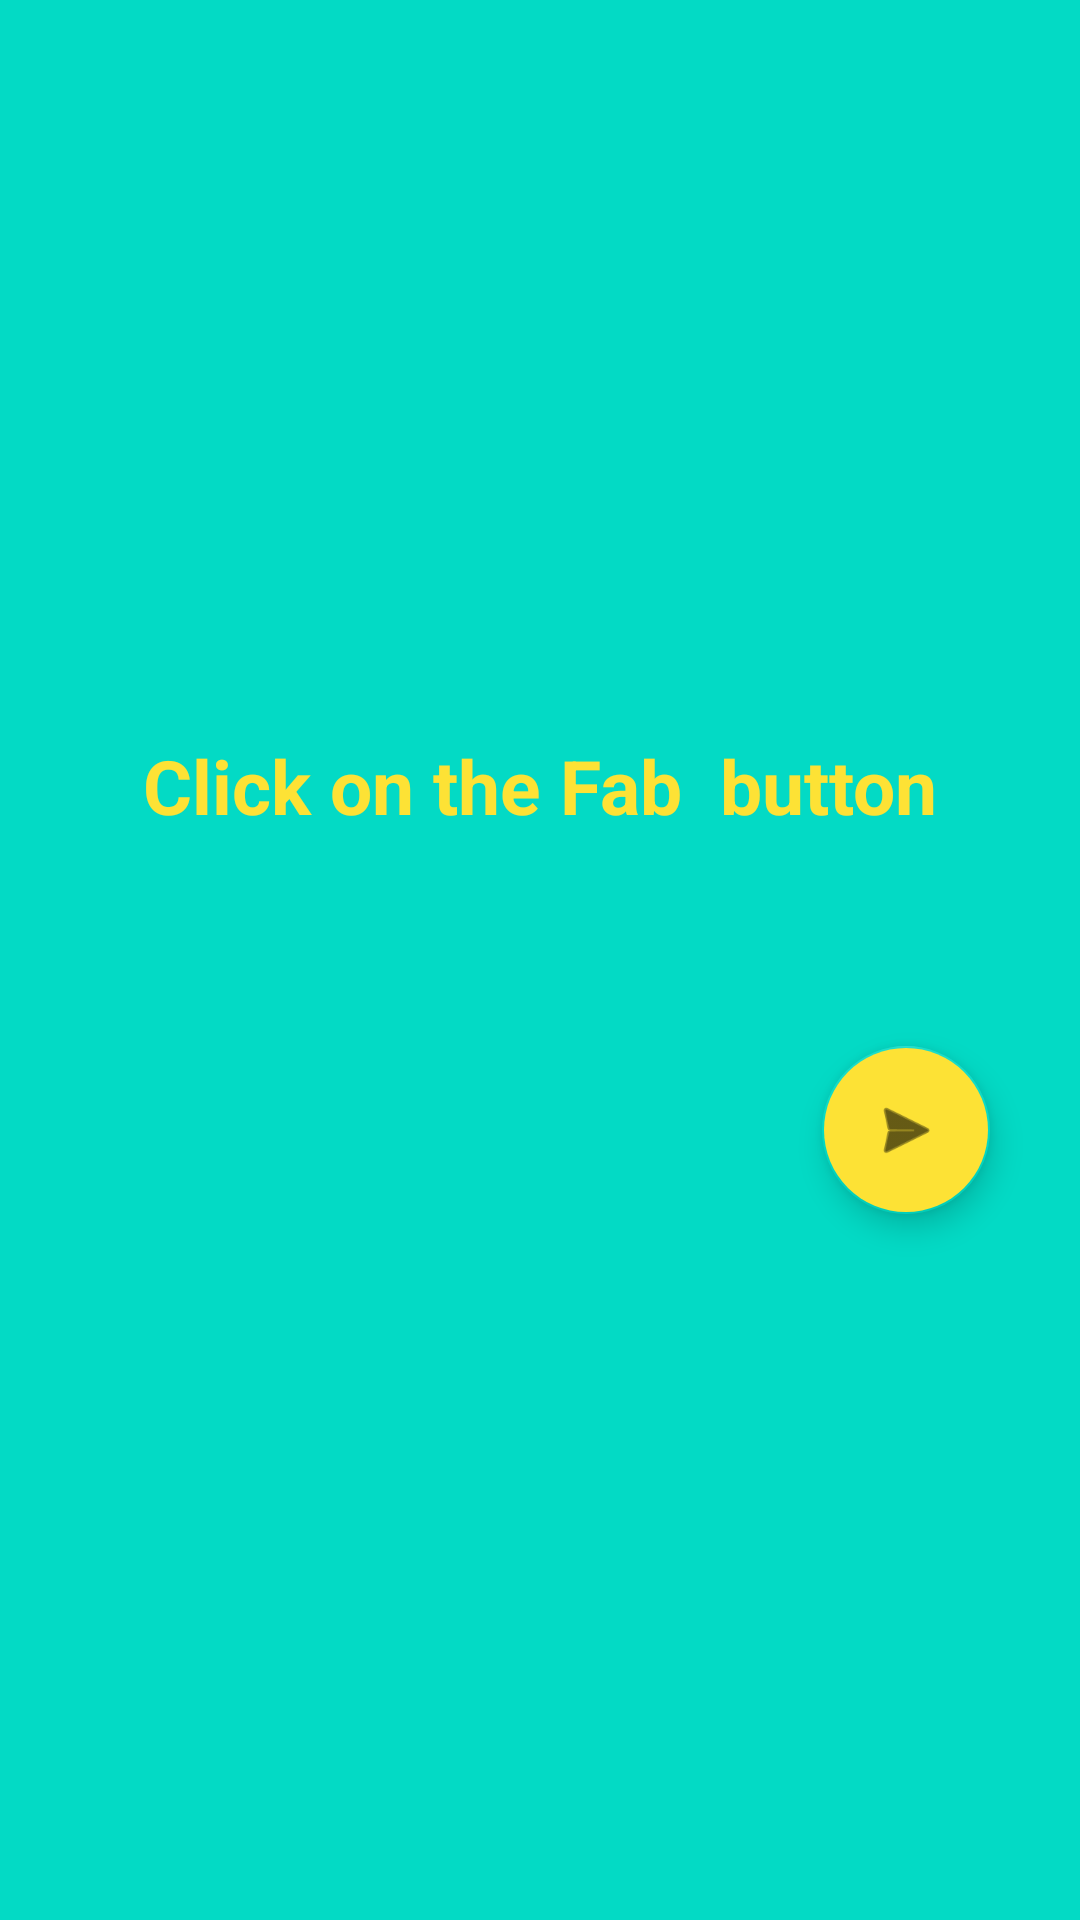

Screen size 1080w x 1920h. Icon name, then its box in pixels as (x1, y1, x2, y2):
send: (824, 1046, 988, 1212)
